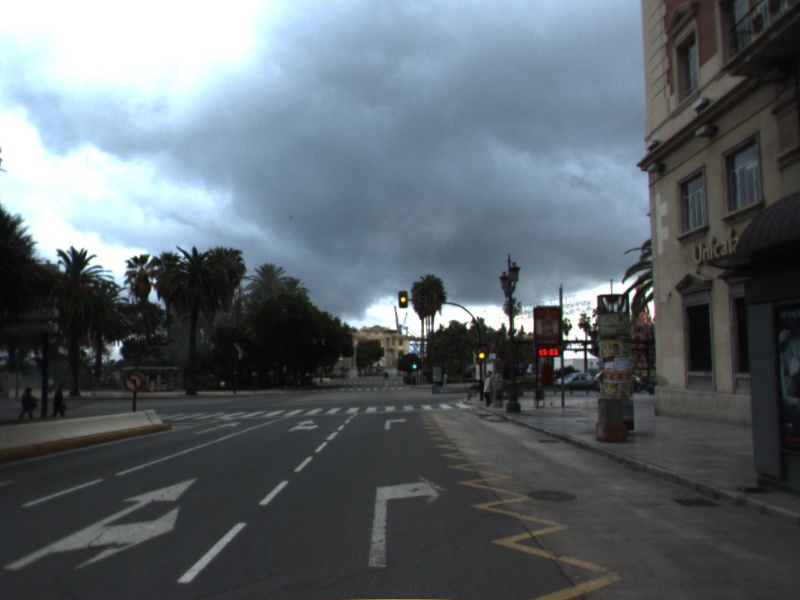RIGHT: (365, 473, 451, 570), (382, 415, 411, 432)
STRAIGHT: (193, 420, 243, 436)
STRAIGHT_RIGHT: (1, 474, 201, 573), (285, 417, 321, 433)
